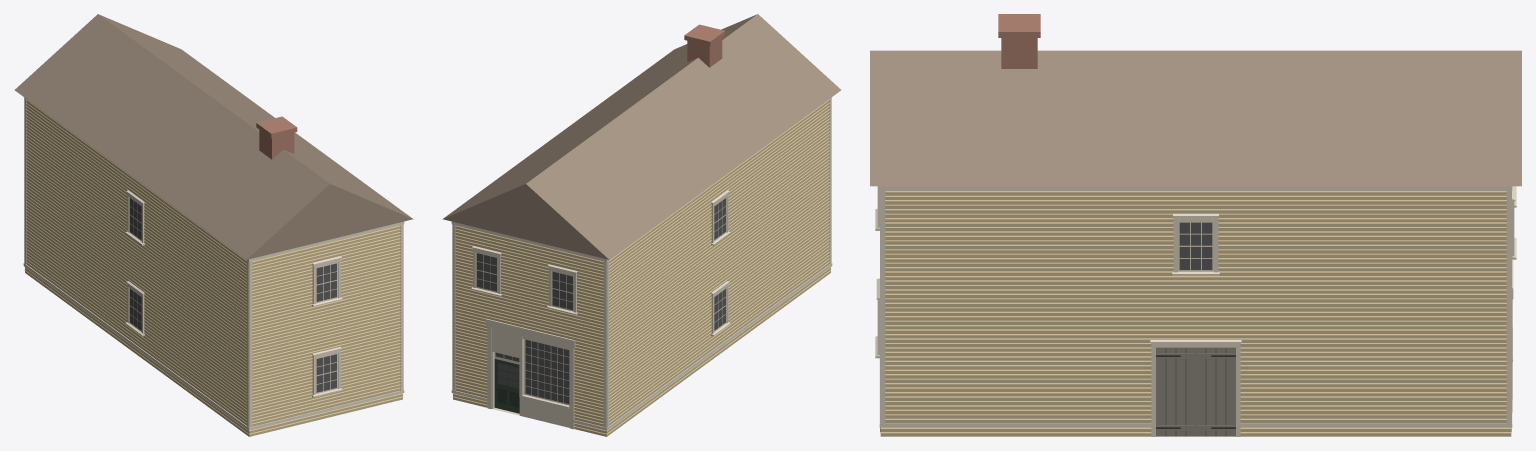
The model's file is recon_1835_blk_south_water_lasalle_c3_13__inferred_1835.glb.
3 renders of one model, left to right at view 1: azimuth 30°, elevation 25°; view 2: azimuth 150°, elevation 25°; view 3: azimuth 270°, elevation 25°, orthographic. The views are drawn at different scales.
Visible parts, largest first — view 1: recon_1835_blk_south_water_lasalle_c3_13__inferred_1835; view 2: recon_1835_blk_south_water_lasalle_c3_13__inferred_1835; view 3: recon_1835_blk_south_water_lasalle_c3_13__inferred_1835.
Part boxes in pixels (left/top/right/bottom): recon_1835_blk_south_water_lasalle_c3_13__inferred_1835: left=14, top=14, right=413, bottom=436; recon_1835_blk_south_water_lasalle_c3_13__inferred_1835: left=442, top=14, right=841, bottom=436; recon_1835_blk_south_water_lasalle_c3_13__inferred_1835: left=870, top=14, right=1521, bottom=436.
Bounding box in the file's own units: 6.28 × 9.22 × 15.1.
